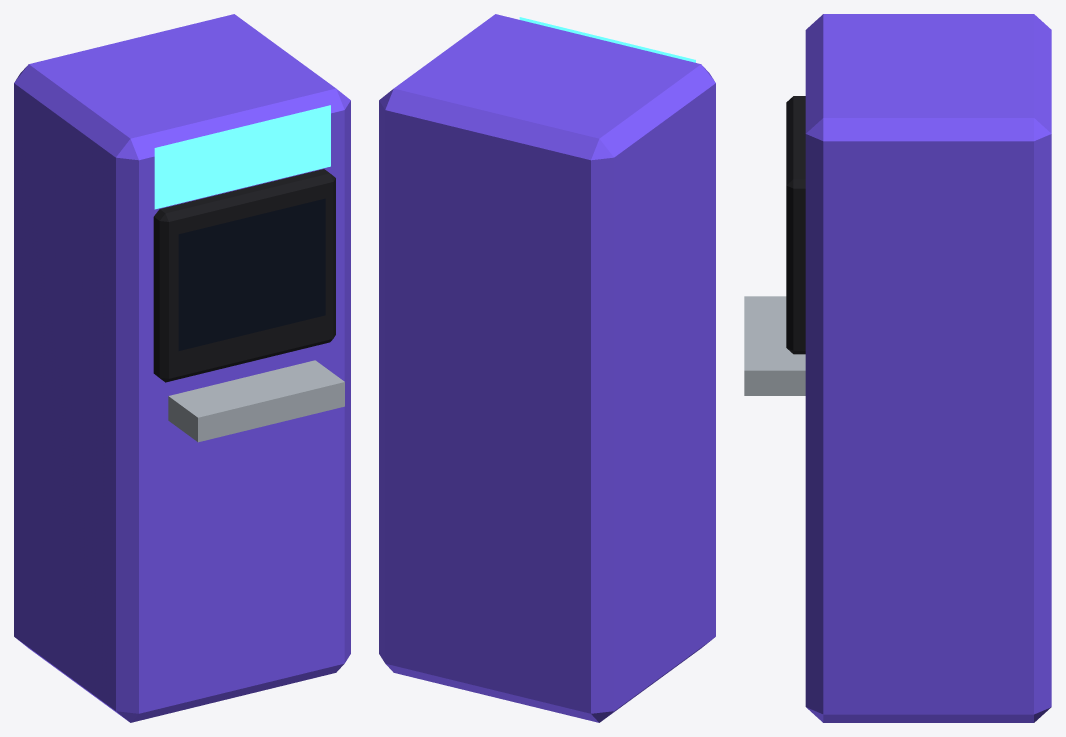
Rendered from crypto_atm.fbx.
The picture shows the model from 3 angles, left to right: view 1: azimuth 30°, elevation 25°; view 2: azimuth 150°, elevation 25°; view 3: azimuth 270°, elevation 25°; orthographic projection. The views are drawn at different scales.
Visible parts, largest first — view 1: crypto_atm; view 2: crypto_atm; view 3: crypto_atm.
Part boxes in pixels (x1,y1,x2,y2): crypto_atm: (14,14,350,722); crypto_atm: (379,14,715,722); crypto_atm: (744,14,1051,722).
Bounding box in the file's own units: 0.8 × 1.9 × 0.875.
Materials: 3 (1 with a texture image).
